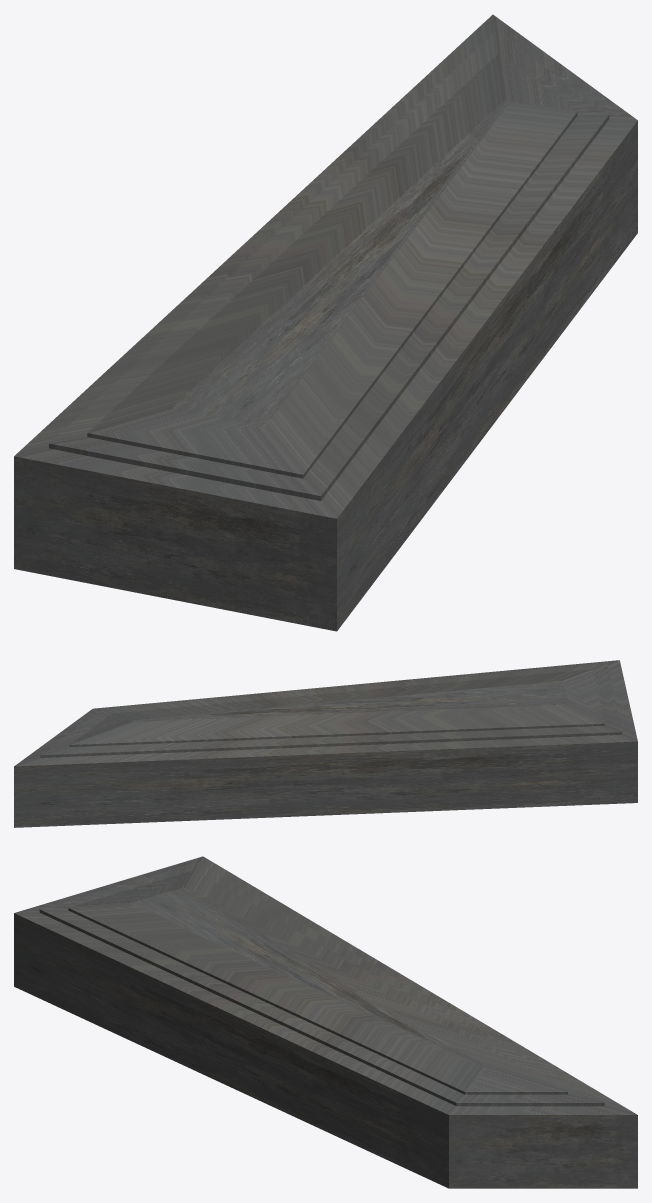
File: hoek.FBX
The picture shows the model from 3 angles, top to bottom: view 1: azimuth 30°, elevation 25°; view 2: azimuth 150°, elevation 25°; view 3: azimuth 270°, elevation 25°; orthographic projection. The views are drawn at different scales.
Parts seen in each view (by area): view 1: Box007; view 2: Box007; view 3: Box007.
Part boxes in pixels (x1,y1,x2,y2): Box007: [14, 14, 637, 631]; Box007: [14, 660, 637, 827]; Box007: [14, 856, 637, 1188].
Bounding box in the file's own units: 373 × 59.52 × 380.
